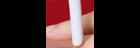Cigarette: (66, 0, 82, 48)
